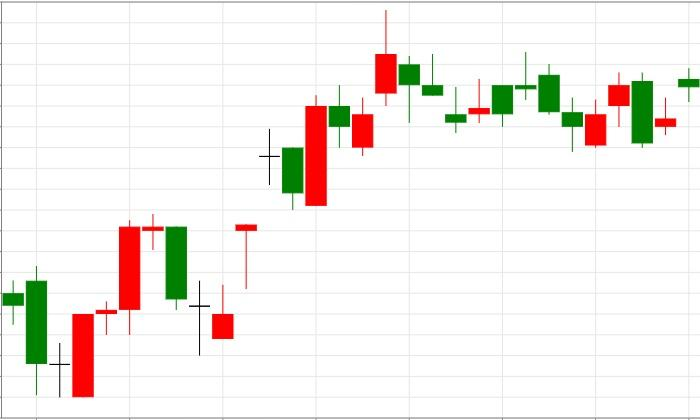evening_star_fall: (48, 214, 187, 398)
